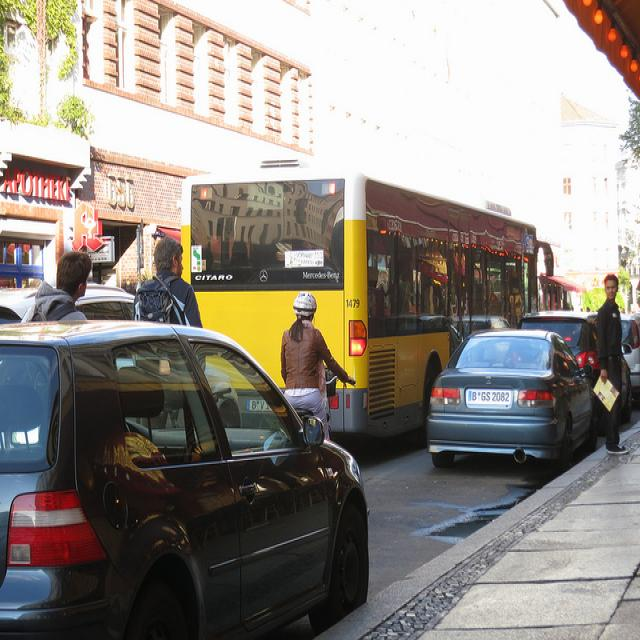Vehicle: (0, 320, 370, 639), (178, 158, 541, 438), (424, 328, 599, 473), (518, 308, 598, 396), (77, 284, 138, 321), (621, 317, 640, 411), (544, 271, 581, 311)
